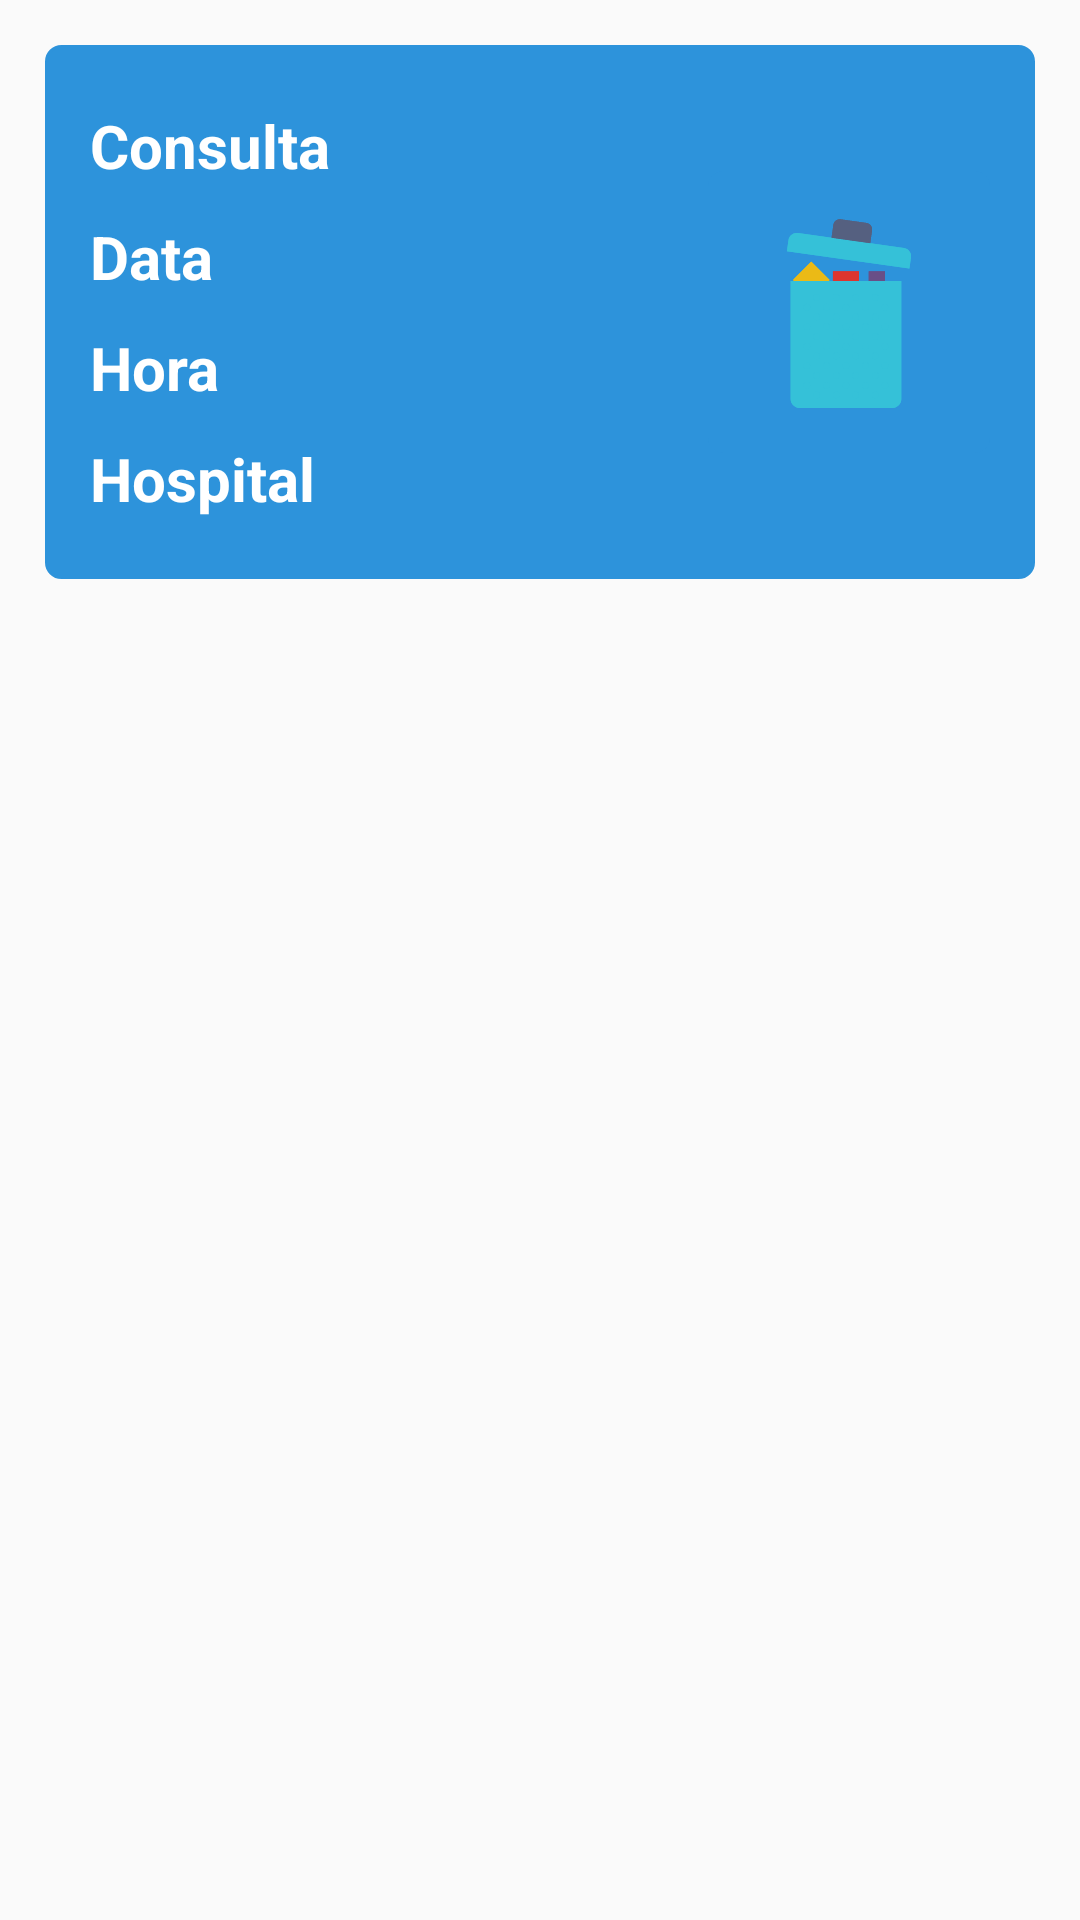

Icons on this 1080px×1920px Android screen, each with the point to tap as (x,y):
delete: (849,313)
